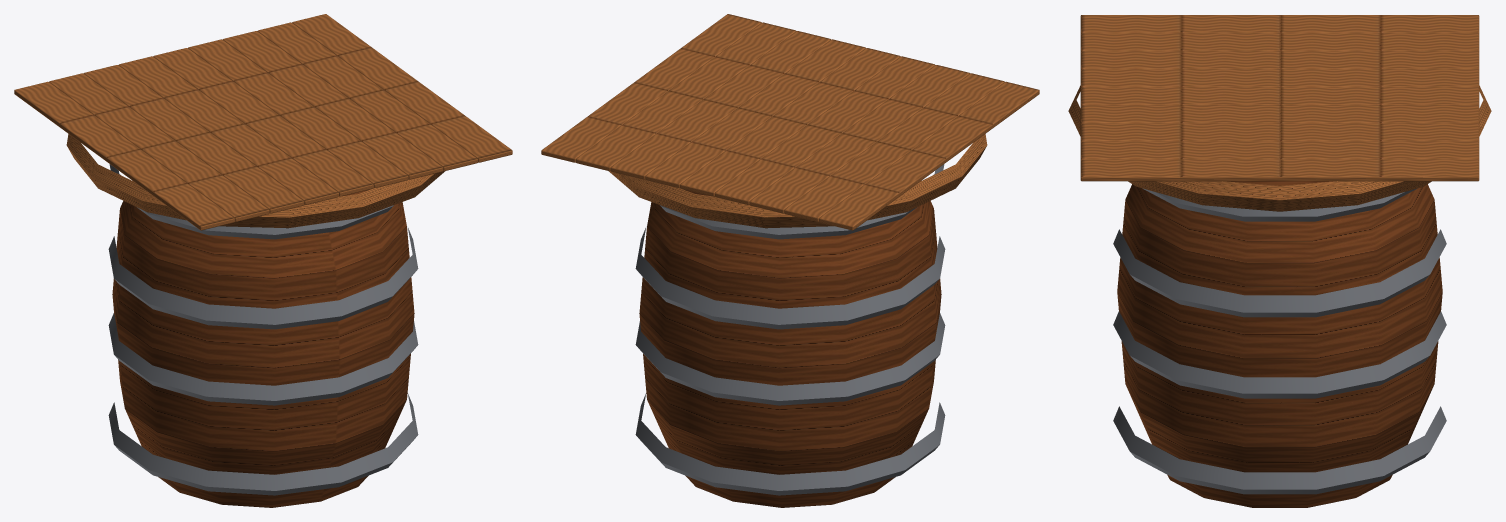
Rendered from greek-island-village-and-harbour-wine-barrel-table-7fd68098__37088.glb.
3 views of the same model, side by side, from view 1: azimuth 30°, elevation 25°; view 2: azimuth 150°, elevation 25°; view 3: azimuth 270°, elevation 25° (orthographic). The views are drawn at different scales.
Parts seen in each view (by area): view 1: wine-barrel-table; view 2: wine-barrel-table; view 3: wine-barrel-table.
Part boxes in pixels (<box>): wine-barrel-table: <box>14,14,512,507</box>; wine-barrel-table: <box>541,14,1039,507</box>; wine-barrel-table: <box>1068,15,1491,507</box>.
Bounding box in the file's own units: 1.04 × 0.982 × 1.04.
4 materials, 3 textured.
